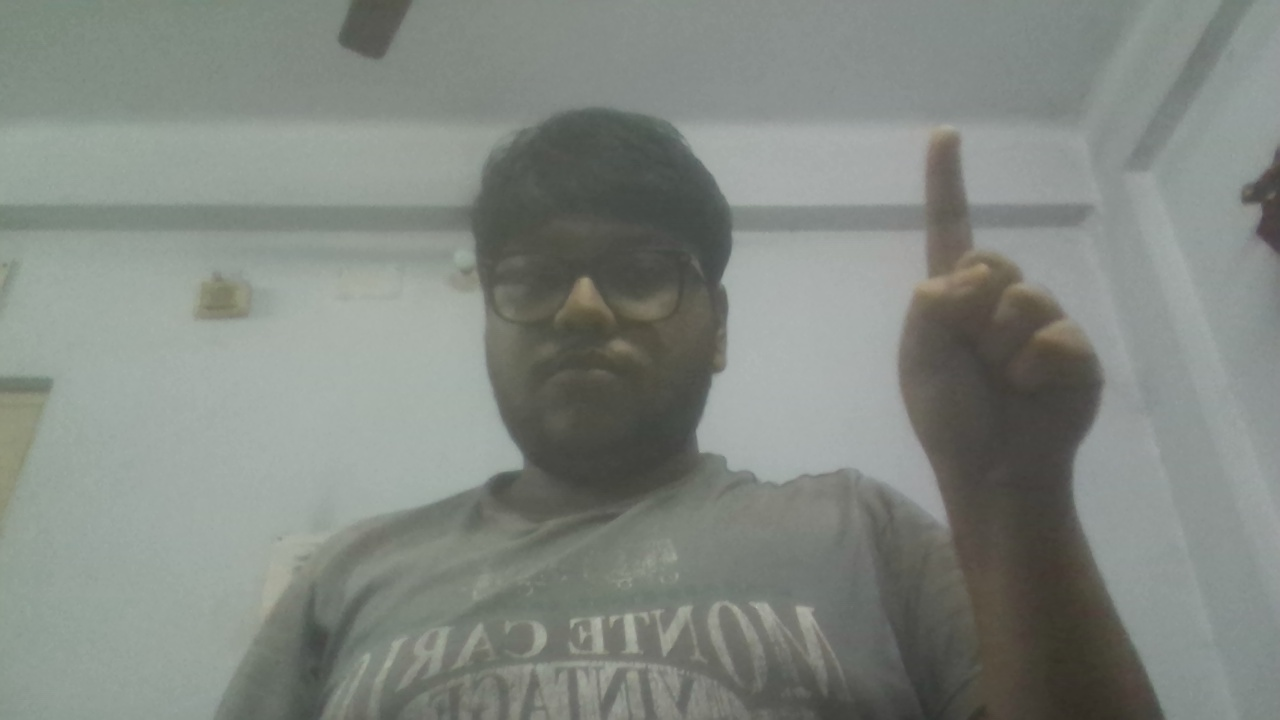Gesture1: (888, 116, 1116, 493)
